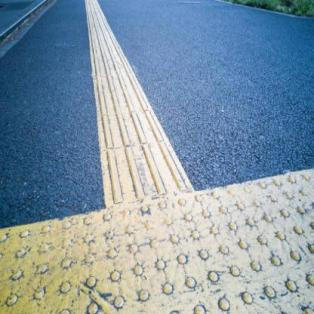Podoctatil: (3, 0, 312, 312)
